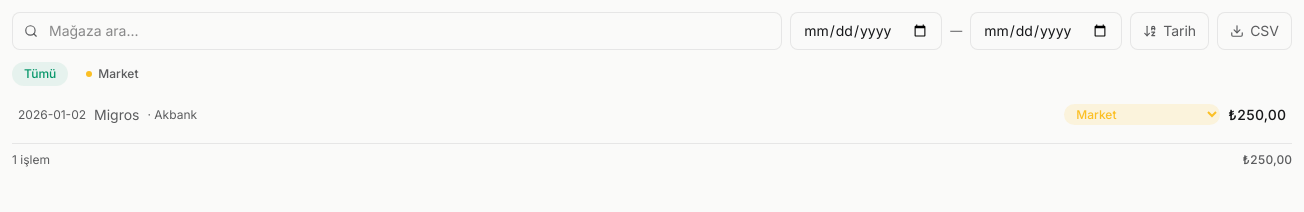
Test case: AllTransactionsView › ignores the month filter once a custom date range is set, and can be cleared
The width and height of the screenshot is (1304, 212).
Check: the text "Migros" is shown, box [94,106,140,122]
Check: the text "Netflix" is not shown
Type "2026-03-01" into the date field named "Başlangıç tarihi" at (866, 31), box [790,12,942,50]
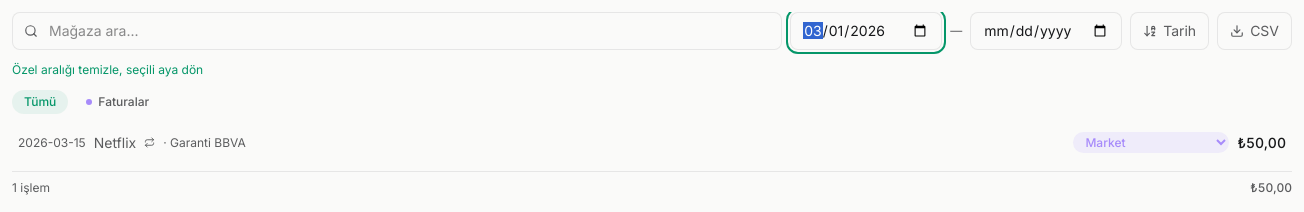
Type "2026-03-31" into the date field named "Bitiş tarihi" at (1046, 31), box [970,12,1122,50]
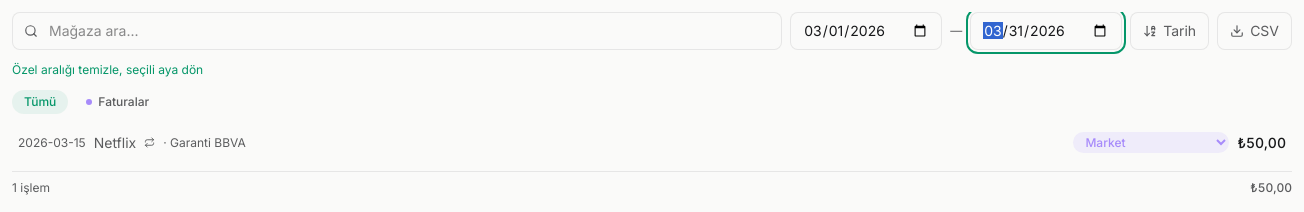
Check: the text "Migros" is not shown
Check: the text "Netflix" is shown, box [94,134,136,150]
Click the button "Özel aralığı temizle, seçili aya dön" at (108, 70), box [12,62,203,78]
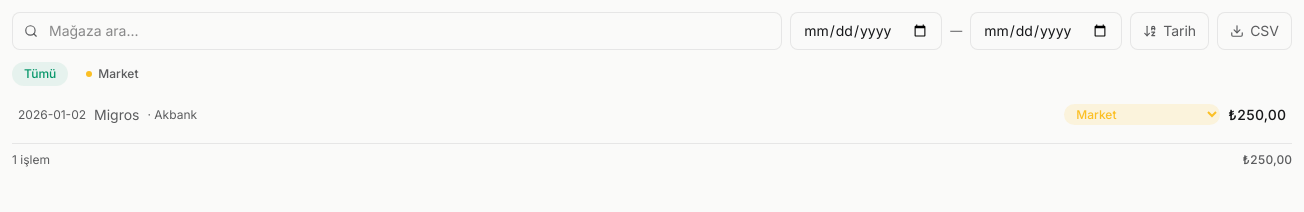
Check: the text "Migros" is shown, box [94,106,140,122]
Check: the text "Netflix" is gone
